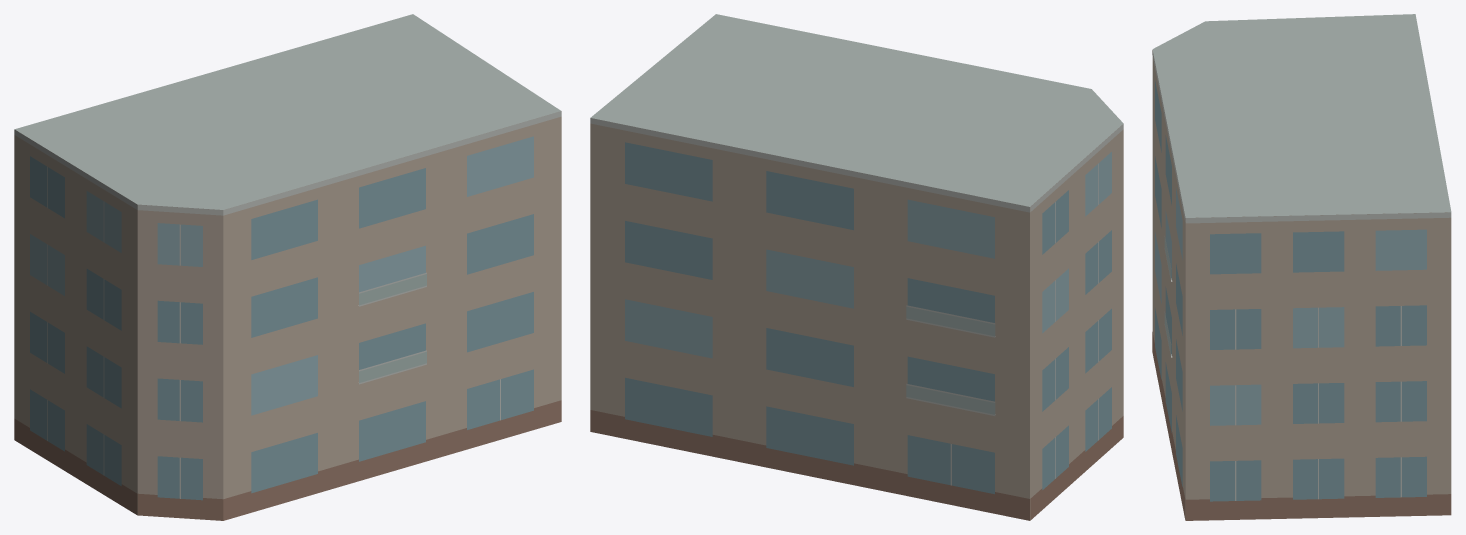
Rendered from survey-upis-32758345.glb.
The picture shows the model from 3 angles, left to right: view 1: azimuth 30°, elevation 25°; view 2: azimuth 150°, elevation 25°; view 3: azimuth 270°, elevation 25°; orthographic projection. The views are drawn at different scales.
Parts seen in each view (by area): view 1: survey-upis-32758345.tmp; view 2: survey-upis-32758345.tmp; view 3: survey-upis-32758345.tmp.
Boxes of the visible parts, x1,y1,x2,y2 form: survey-upis-32758345.tmp: (14, 14, 561, 520); survey-upis-32758345.tmp: (590, 14, 1123, 520); survey-upis-32758345.tmp: (1152, 14, 1451, 520).
Size of the model in its own units: 19.58 by 13.55 by 12.13.
